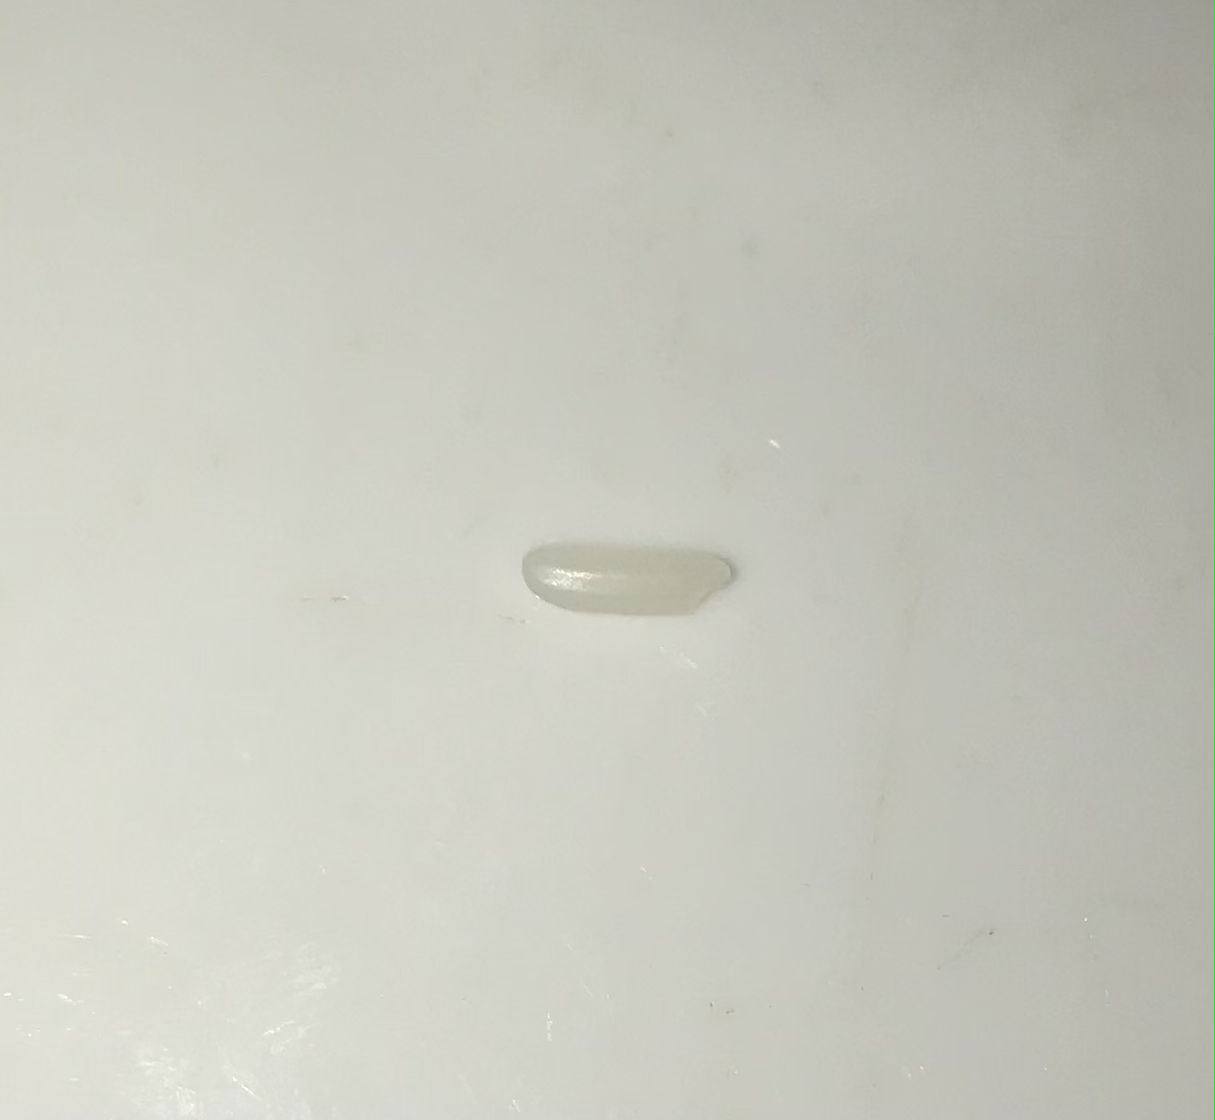Gao Ngoc Troi: (504, 502, 774, 653)
